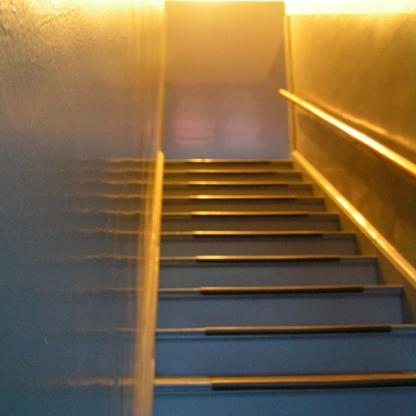stairs: (163, 215, 340, 416)
